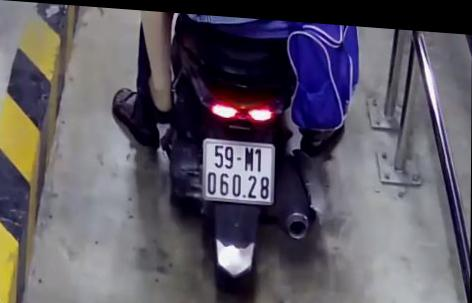License_Plate: (195, 132, 281, 212)
